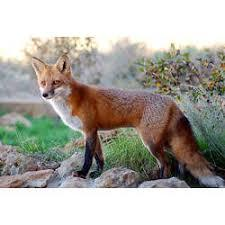fox: (30, 52, 222, 186)
